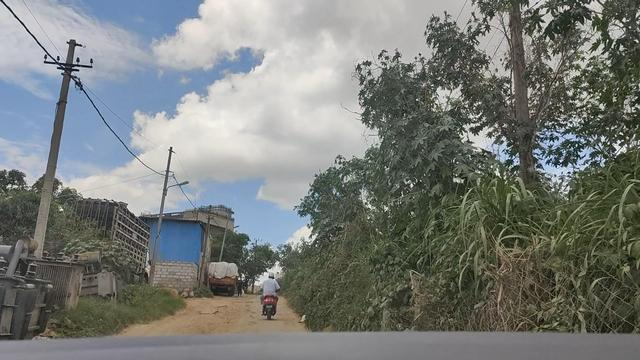HMV: (204, 258, 238, 297)
UnsurfacedRoad: (169, 299, 251, 332)
